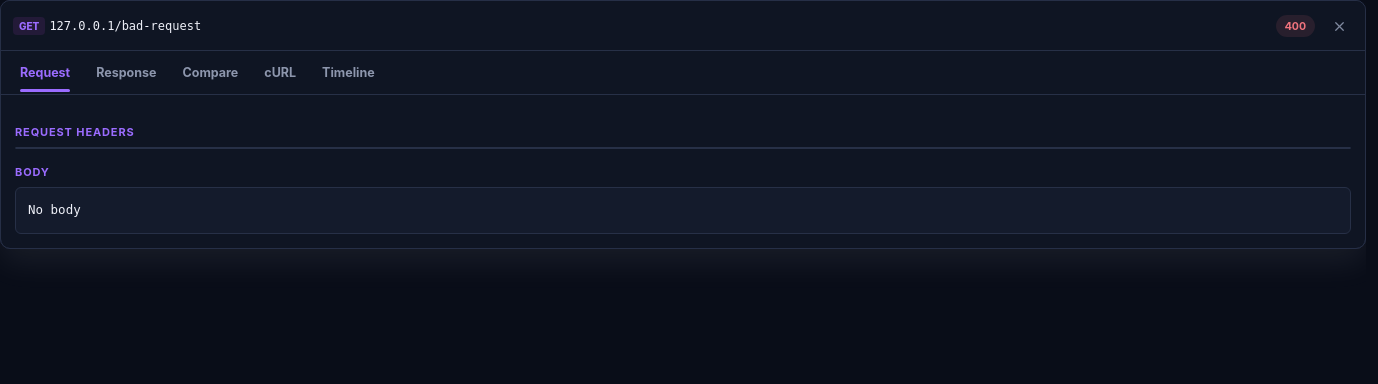
Test: Inspector › renders duplicate response headers without crashing and bounds a large body
Click the tab "Response".
click(126, 74)  # box [85, 55, 168, 94]
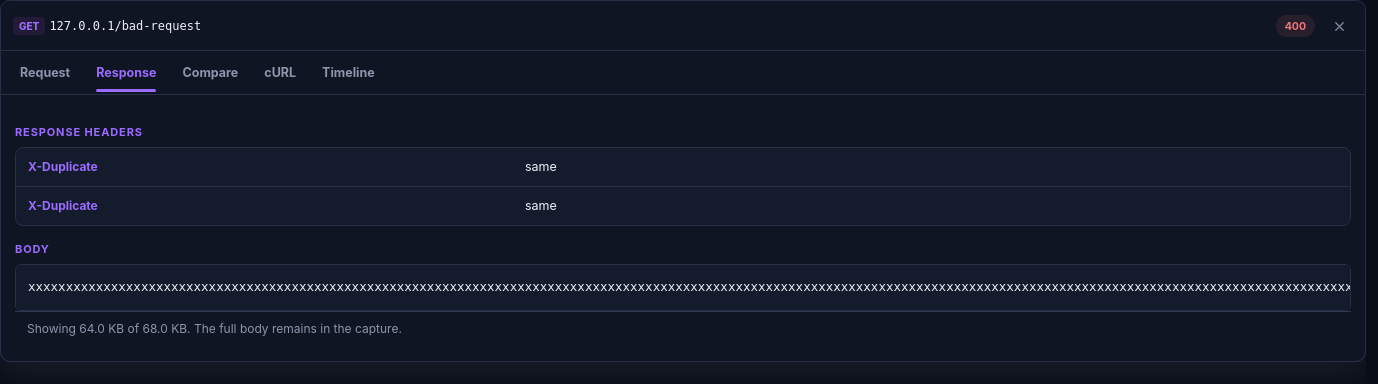
Check: the text "same" is shown 2 times, box [525, 159, 557, 174]; [525, 198, 557, 213]
Check: the text "The full body remains in the capture" is shown, box [27, 321, 402, 336]
